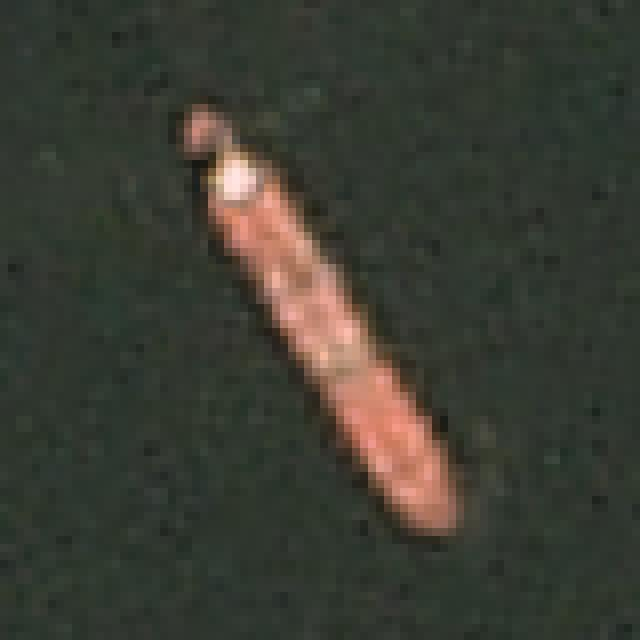ship: (167, 75, 496, 574)
